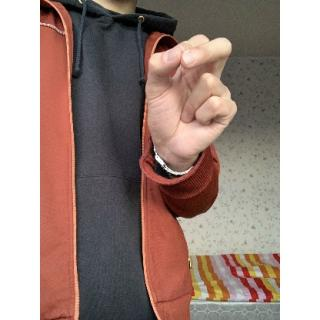QAAF: (138, 25, 242, 163)
